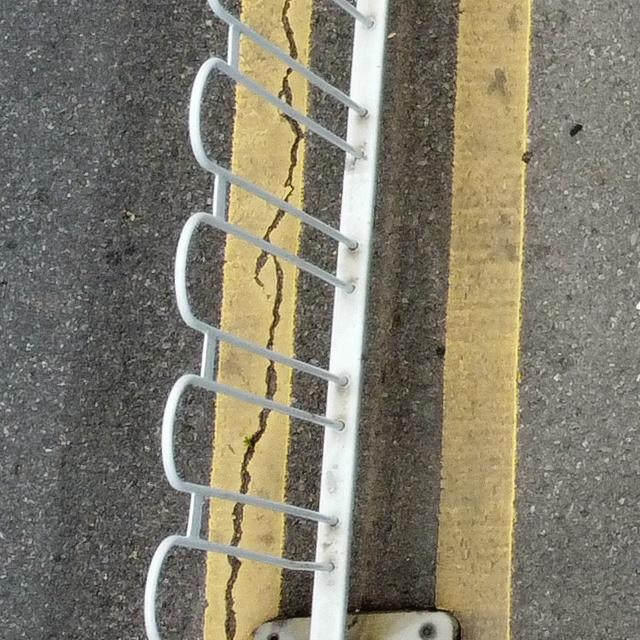LongitudinalCrack: (222, 1, 307, 639)
